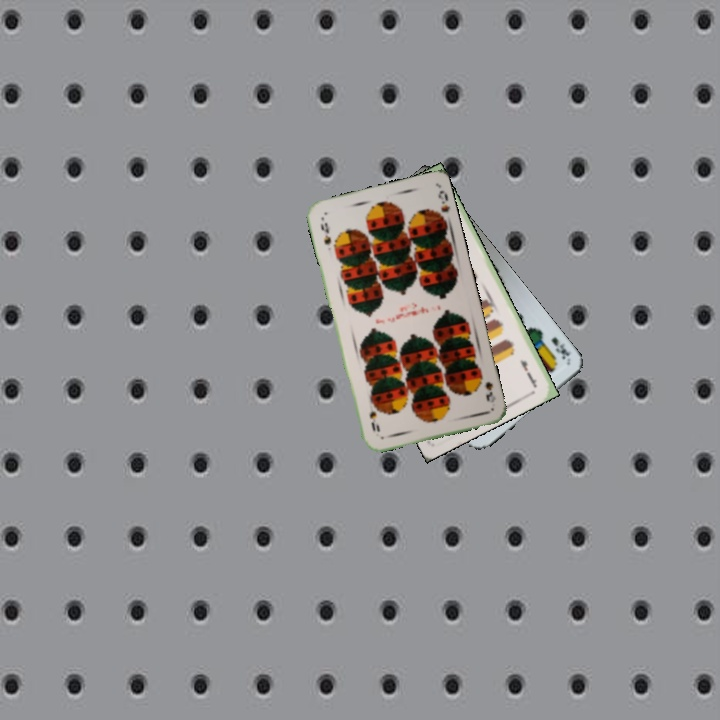E7: (516, 355, 539, 389)
EK: (547, 333, 574, 362)
S9: (474, 369, 498, 405), (316, 219, 334, 247)
